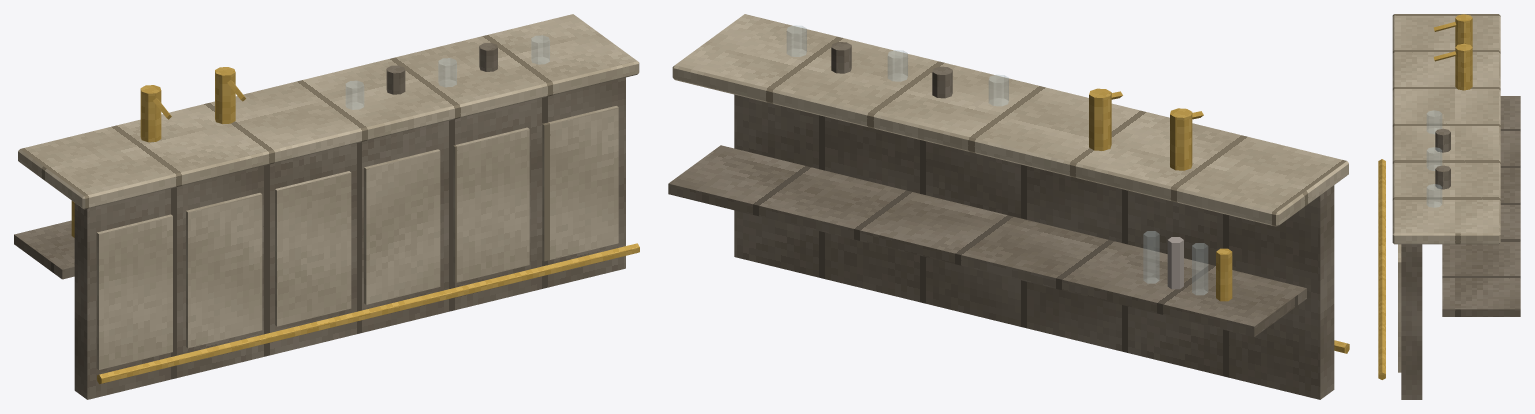
Rendered from bar_counter.glb.
3 renders of one model, left to right at view 1: azimuth 30°, elevation 25°; view 2: azimuth 150°, elevation 25°; view 3: azimuth 270°, elevation 25°, orthographic. The views are drawn at different scales.
Visible parts, largest first — view 1: body; view 2: body; view 3: body.
Part boxes in pixels (x1=…): body: x1=14, y1=14, x2=639, y2=399; body: x1=668, y1=14, x2=1349, y2=399; body: x1=1378, y1=14, x2=1520, y2=399.
Bounding box in the file's own units: 3 × 1.33 × 0.8167.
Materials: 5 (3 with a texture image).
